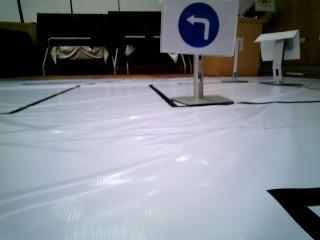left: (166, 0, 231, 56)
